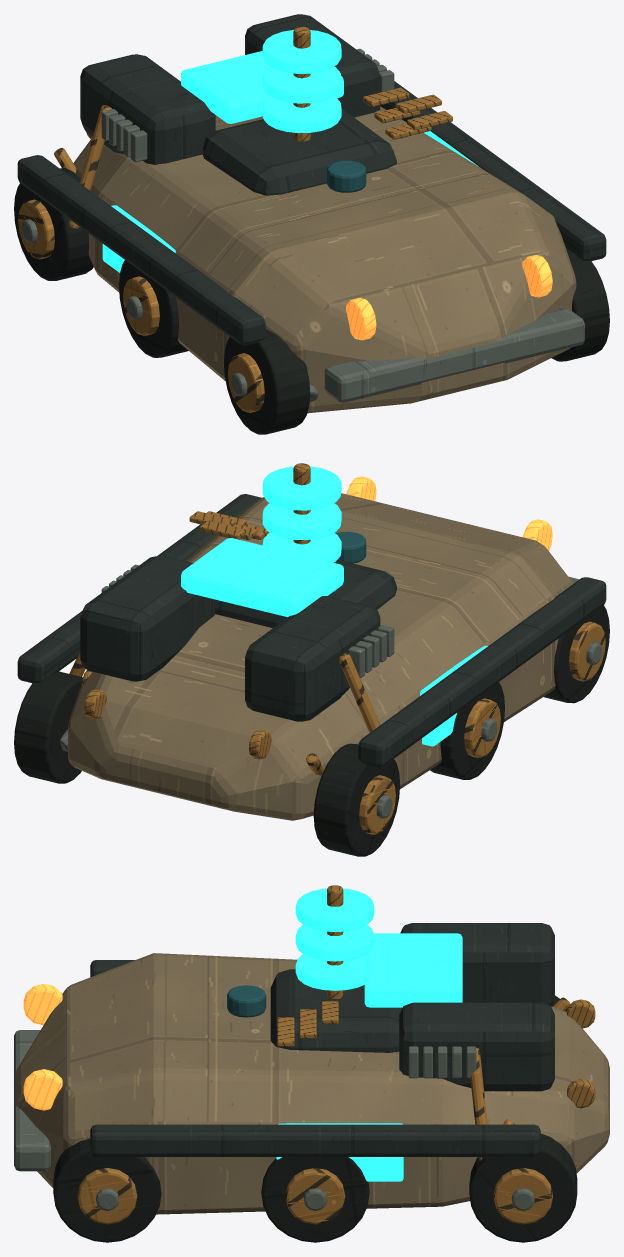
The model's file is drift_scout.glb.
The picture shows the model from 3 angles, top to bottom: view 1: azimuth 30°, elevation 25°; view 2: azimuth 150°, elevation 25°; view 3: azimuth 270°, elevation 25°; orthographic projection.
Parts seen in each view (by area): view 1: Wanderpakt · low angular field chassis, Faction detail · Vehicle / dark, Faction detail · Vehicle / rubber, Faction detail · Vehicle / steel, Faction detail · Vehicle / dark.001, TeamColor flank details, Faction detail · Vehicle / hazard, TeamColor, Faction detail · Vehicle / hazard.001, Faction detail · Vehicle / amber, Forward laser range finder, TeamColor flank details.001 (+1 smaller); view 2: Wanderpakt · low angular field chassis, Faction detail · Vehicle / dark, Faction detail · Vehicle / rubber, TeamColor, TeamColor flank details, Faction detail · Vehicle / hazard, Faction detail · Vehicle / dark.001, Faction detail · Vehicle / steel, Faction detail · Vehicle / hazard.001, Faction detail · Vehicle / amber, Faction detail · Vehicle / red, TeamColor flank details.001 (+1 smaller); view 3: Wanderpakt · low angular field chassis, Faction detail · Vehicle / dark, Faction detail · Vehicle / rubber, Faction detail · Vehicle / hazard, TeamColor, TeamColor flank details, Faction detail · Vehicle / dark.001, Faction detail · Vehicle / steel, Faction detail · Vehicle / amber, Faction detail · Vehicle / hazard.001, TeamColor flank details.001, Faction detail · Vehicle / red (+2 smaller).
Part boxes in pixels (x1=…): Wanderpakt · low angular field chassis: x1=73, y1=106, x2=576, y2=413; Faction detail · Vehicle / dark: x1=17, y1=14, x2=606, y2=345; Faction detail · Vehicle / rubber: x1=14, y1=168, x2=609, y2=434; Faction detail · Vehicle / steel: x1=21, y1=48, x2=584, y2=402; Faction detail · Vehicle / dark.001: x1=202, y1=109, x2=396, y2=195; TeamColor flank details: x1=262, y1=30, x2=341, y2=133; Faction detail · Vehicle / hazard: x1=18, y1=105, x2=264, y2=412; TeamColor: x1=181, y1=51, x2=343, y2=123; Faction detail · Vehicle / hazard.001: x1=363, y1=87, x2=452, y2=139; Faction detail · Vehicle / amber: x1=346, y1=255, x2=552, y2=340; Forward laser range finder: x1=327, y1=160, x2=366, y2=192; TeamColor flank details.001: x1=102, y1=131, x2=478, y2=272; Wanderpakt · low angular field chassis: x1=68, y1=493, x2=573, y2=820; Faction detail · Vehicle / dark: x1=17, y1=494, x2=606, y2=767; Faction detail · Vehicle / rubber: x1=14, y1=605, x2=609, y2=856; TeamColor: x1=181, y1=538, x2=343, y2=617; TeamColor flank details: x1=262, y1=466, x2=341, y2=562; Faction detail · Vehicle / hazard: x1=69, y1=621, x2=605, y2=834; Faction detail · Vehicle / dark.001: x1=215, y1=560, x2=396, y2=627; Faction detail · Vehicle / steel: x1=60, y1=564, x2=602, y2=818; Faction detail · Vehicle / hazard.001: x1=189, y1=511, x2=268, y2=539; Faction detail · Vehicle / amber: x1=346, y1=476, x2=552, y2=550; Faction detail · Vehicle / red: x1=84, y1=689, x2=271, y2=759; TeamColor flank details.001: x1=420, y1=645, x2=487, y2=746; Wanderpakt · low angular field chassis: x1=16, y1=953, x2=609, y2=1214; Faction detail · Vehicle / dark: x1=90, y1=923, x2=554, y2=1156; Faction detail · Vehicle / rubber: x1=53, y1=995, x2=577, y2=1242; Faction detail · Vehicle / hazard: x1=77, y1=997, x2=570, y2=1224; TeamColor: x1=364, y1=933, x2=462, y2=1007; TeamColor flank details: x1=295, y1=888, x2=374, y2=990; Faction detail · Vehicle / dark.001: x1=270, y1=969, x2=402, y2=1052; Faction detail · Vehicle / steel: x1=14, y1=1030, x2=534, y2=1210; Faction detail · Vehicle / amber: x1=23, y1=984, x2=62, y2=1110; Faction detail · Vehicle / hazard.001: x1=277, y1=1001, x2=338, y2=1046; TeamColor flank details.001: x1=276, y1=1123, x2=403, y2=1181; Faction detail · Vehicle / red: x1=567, y1=999, x2=595, y2=1108.
Bounding box in the file's own units: 1.71 × 1.24 × 2.43.
10 materials, 9 textured.
